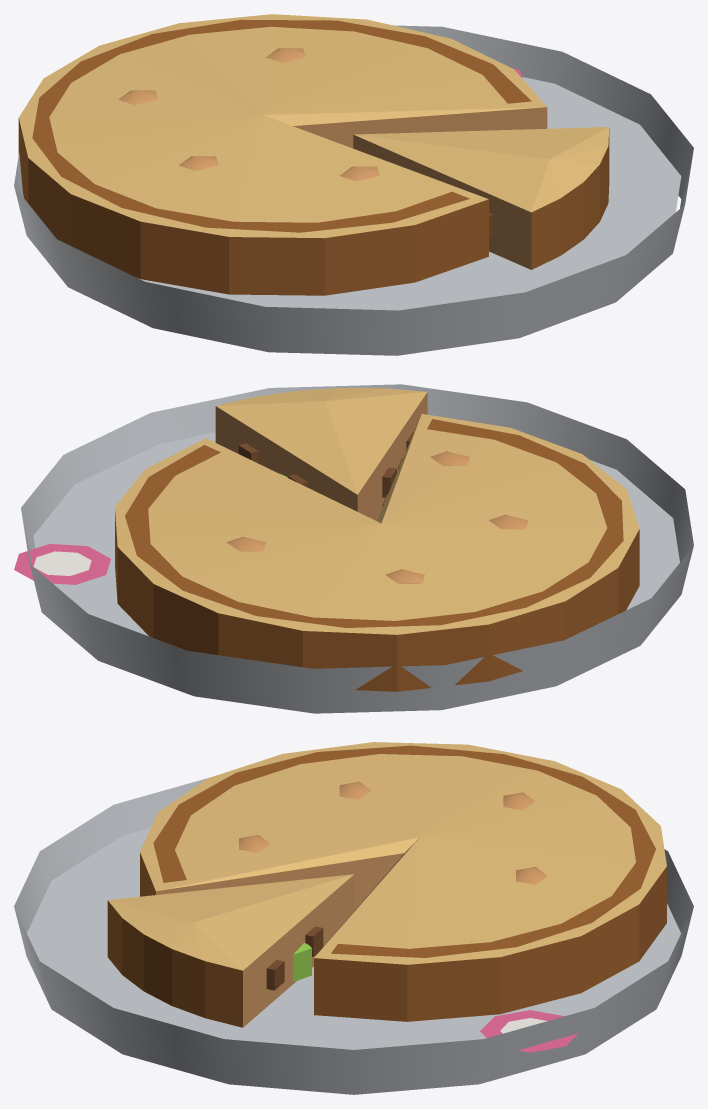
Rendered from pass_keema_paratha.glb.
3 renders of one model, top to bottom at view 1: azimuth 30°, elevation 25°; view 2: azimuth 150°, elevation 25°; view 3: azimuth 270°, elevation 25°, orthographic.
Parts seen in each view (by area): view 1: pass_keema_paratha; view 2: pass_keema_paratha; view 3: pass_keema_paratha.
Part boxes in pixels (bbox=[...]): pass_keema_paratha: bbox=[14, 14, 693, 355]; pass_keema_paratha: bbox=[14, 384, 693, 713]; pass_keema_paratha: bbox=[14, 742, 693, 1094].
Size of the model in its own units: 0.27 by 0.043 by 0.27.
Materials: 1 (1 with a texture image).
